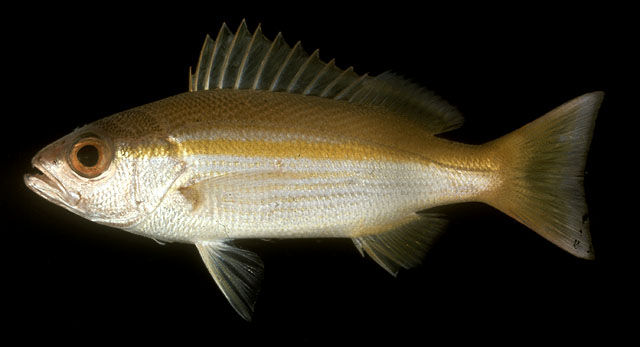fish: (23, 18, 605, 322)
